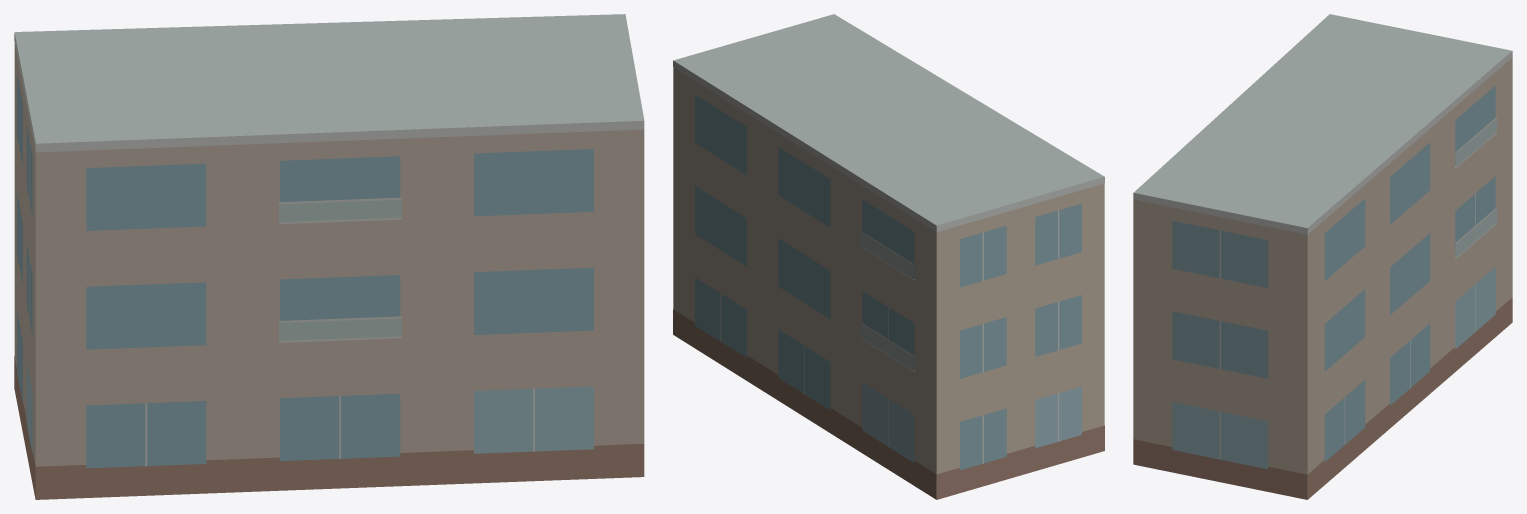
The model's file is survey-upis-33033171.glb.
3 renders of one model, left to right at view 1: azimuth 30°, elevation 25°; view 2: azimuth 150°, elevation 25°; view 3: azimuth 270°, elevation 25°, orthographic. The views are drawn at different scales.
Parts seen in each view (by area): view 1: survey-upis-33033171.tmp; view 2: survey-upis-33033171.tmp; view 3: survey-upis-33033171.tmp.
Part boxes in pixels (box(x1,y1,x2,y2)): survey-upis-33033171.tmp: box(14, 14, 644, 499); survey-upis-33033171.tmp: box(673, 14, 1104, 499); survey-upis-33033171.tmp: box(1133, 14, 1512, 499).
Bounding box in the file's own units: 16.91 × 10 × 12.65.
